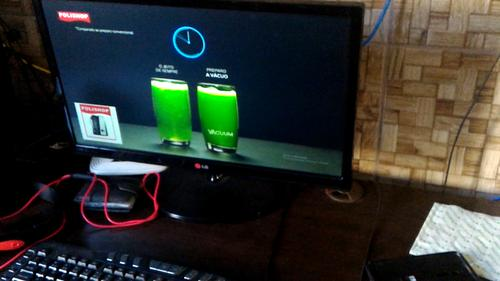Polishop #1: (73, 102, 123, 145)
